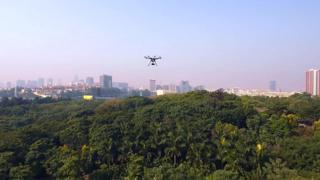UAV: (144, 56, 162, 66)
